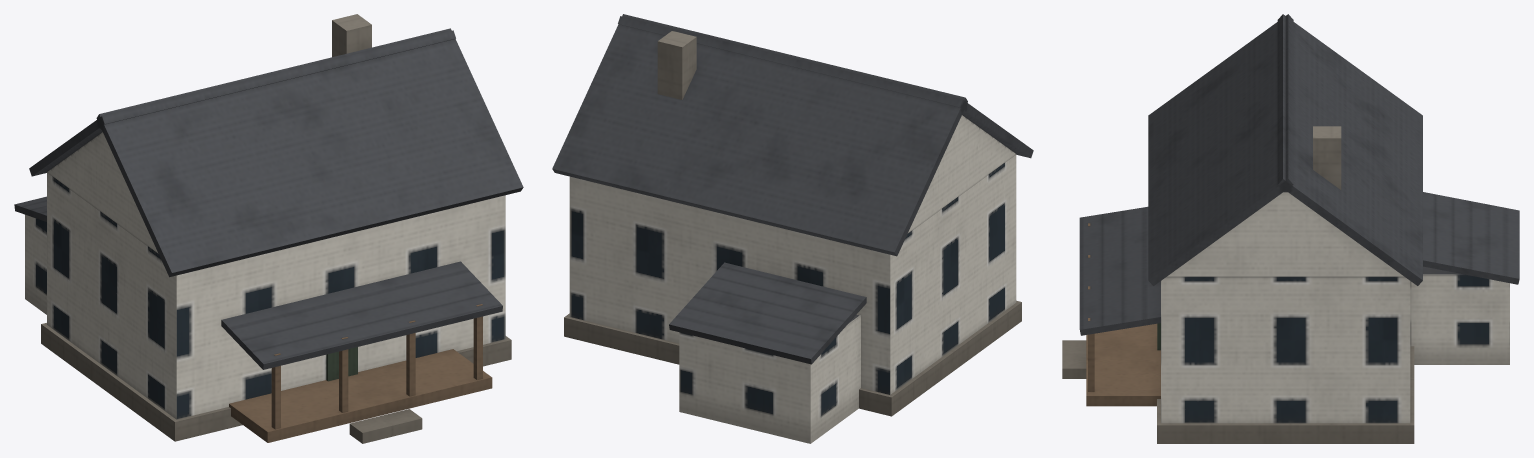
File: farmhouse.fbx
The picture shows the model from 3 angles, left to right: view 1: azimuth 30°, elevation 25°; view 2: azimuth 150°, elevation 25°; view 3: azimuth 270°, elevation 25°; orthographic projection. The views are drawn at different scales.
Visible parts, largest first — view 1: farmhouse; view 2: farmhouse; view 3: farmhouse.
Part boxes in pixels (box(x1,y1,x2,y2)): farmhouse: box(14, 14, 523, 443); farmhouse: box(552, 14, 1033, 443); farmhouse: box(1062, 14, 1519, 443).
Size of the model in its own units: 1316 by 1036 by 1542.
Materials: 1 (1 with a texture image).
